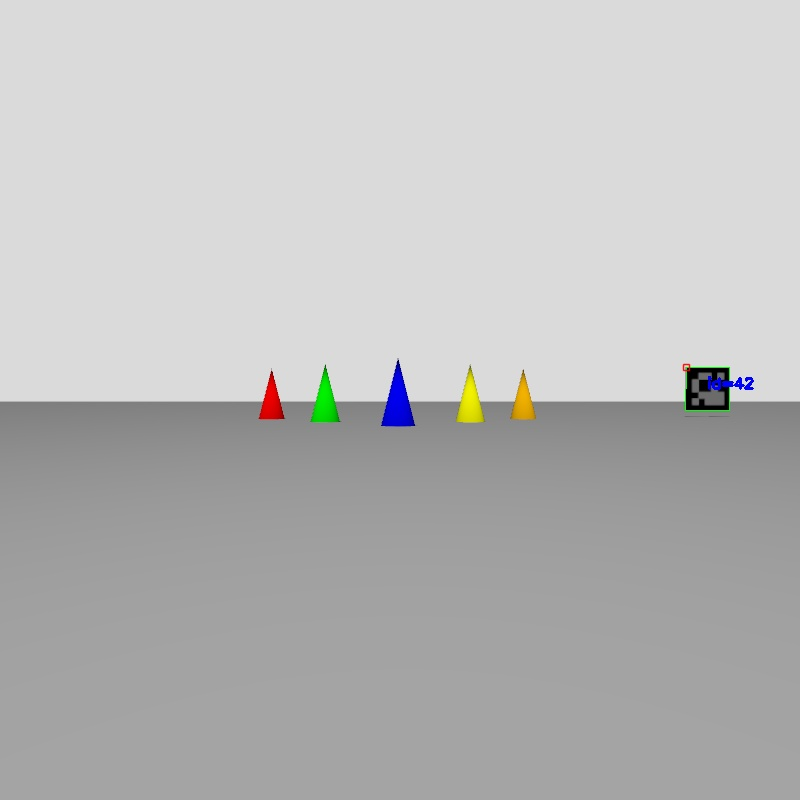Blue_cone: (382, 360, 414, 426)
Green_cone: (310, 365, 339, 422)
Orange_cone: (511, 371, 535, 419)
Red_cone: (259, 371, 284, 419)
Yellow_cone: (457, 367, 483, 421)
